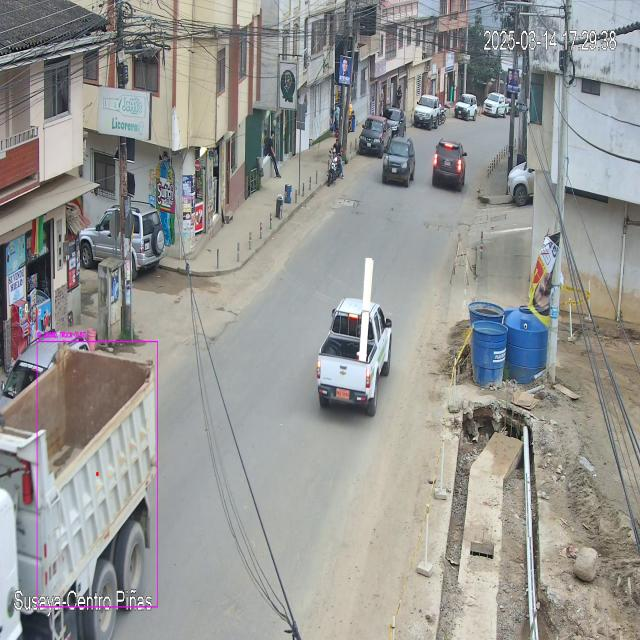CMT: (315, 298, 392, 416)
TRUCK: (0, 348, 157, 640)
